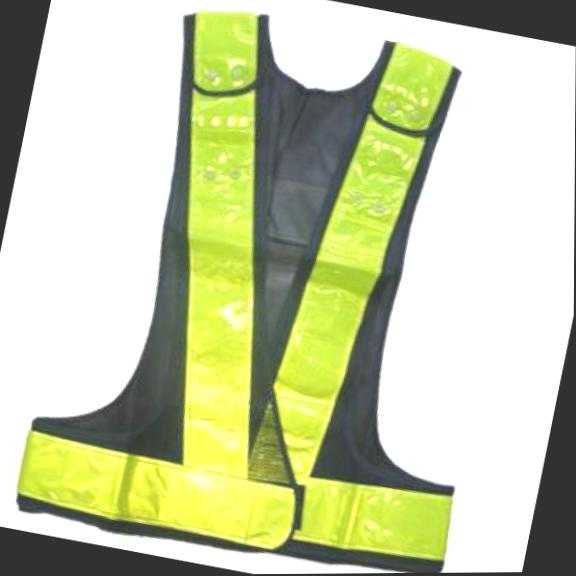safety_vest: (5, 0, 550, 576)
